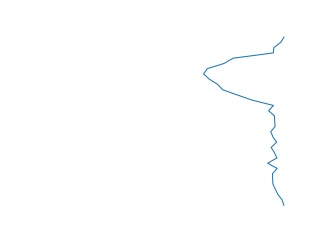distalBar: (199, 38, 293, 204)
